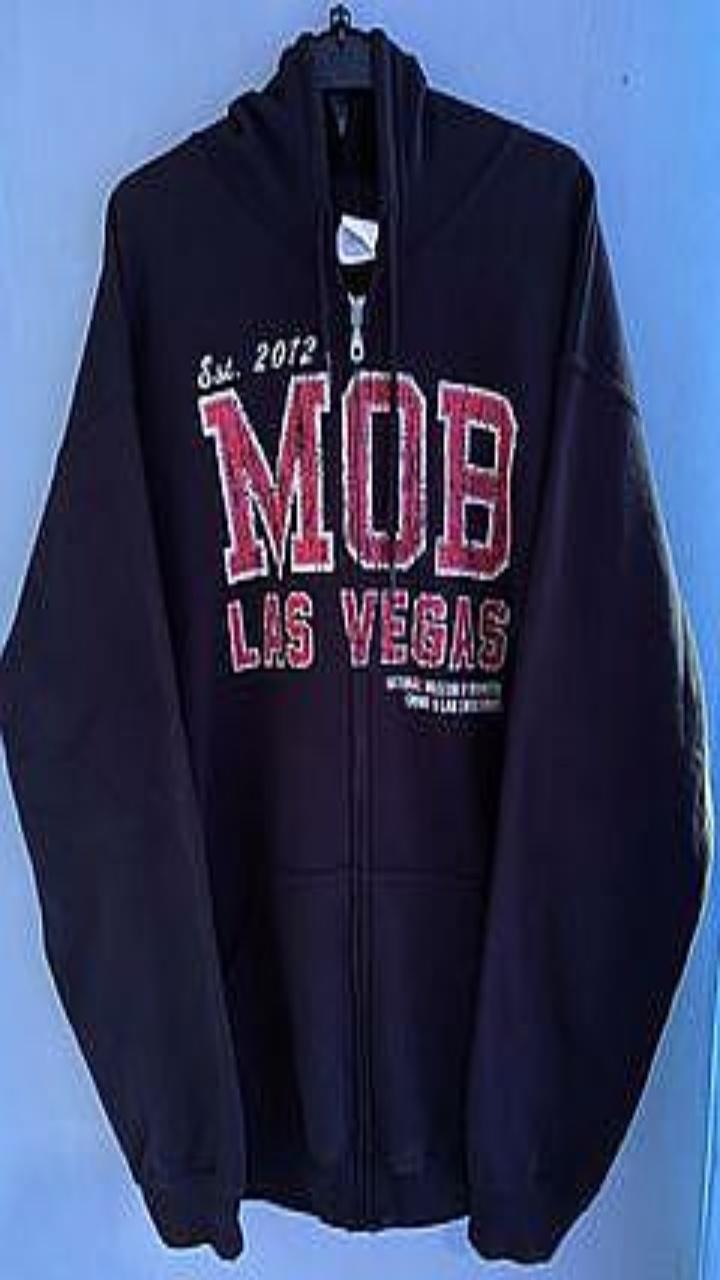Hoodie: (0, 28, 711, 1262)
